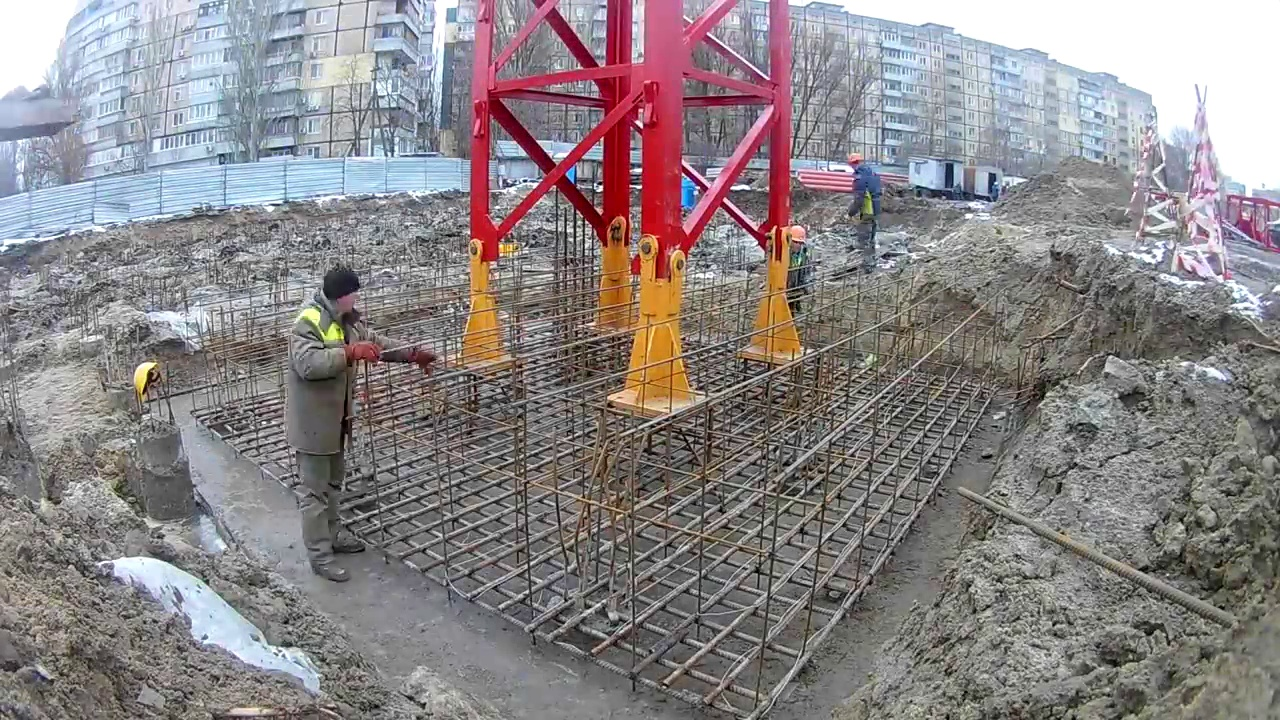helmet: (130, 358, 160, 405), (789, 226, 805, 244), (847, 153, 863, 165)
helmet-off: (315, 267, 358, 321)
helmet-on: (786, 225, 808, 260), (846, 152, 864, 173)
person: (281, 268, 366, 606), (845, 152, 884, 254), (784, 224, 812, 313)
